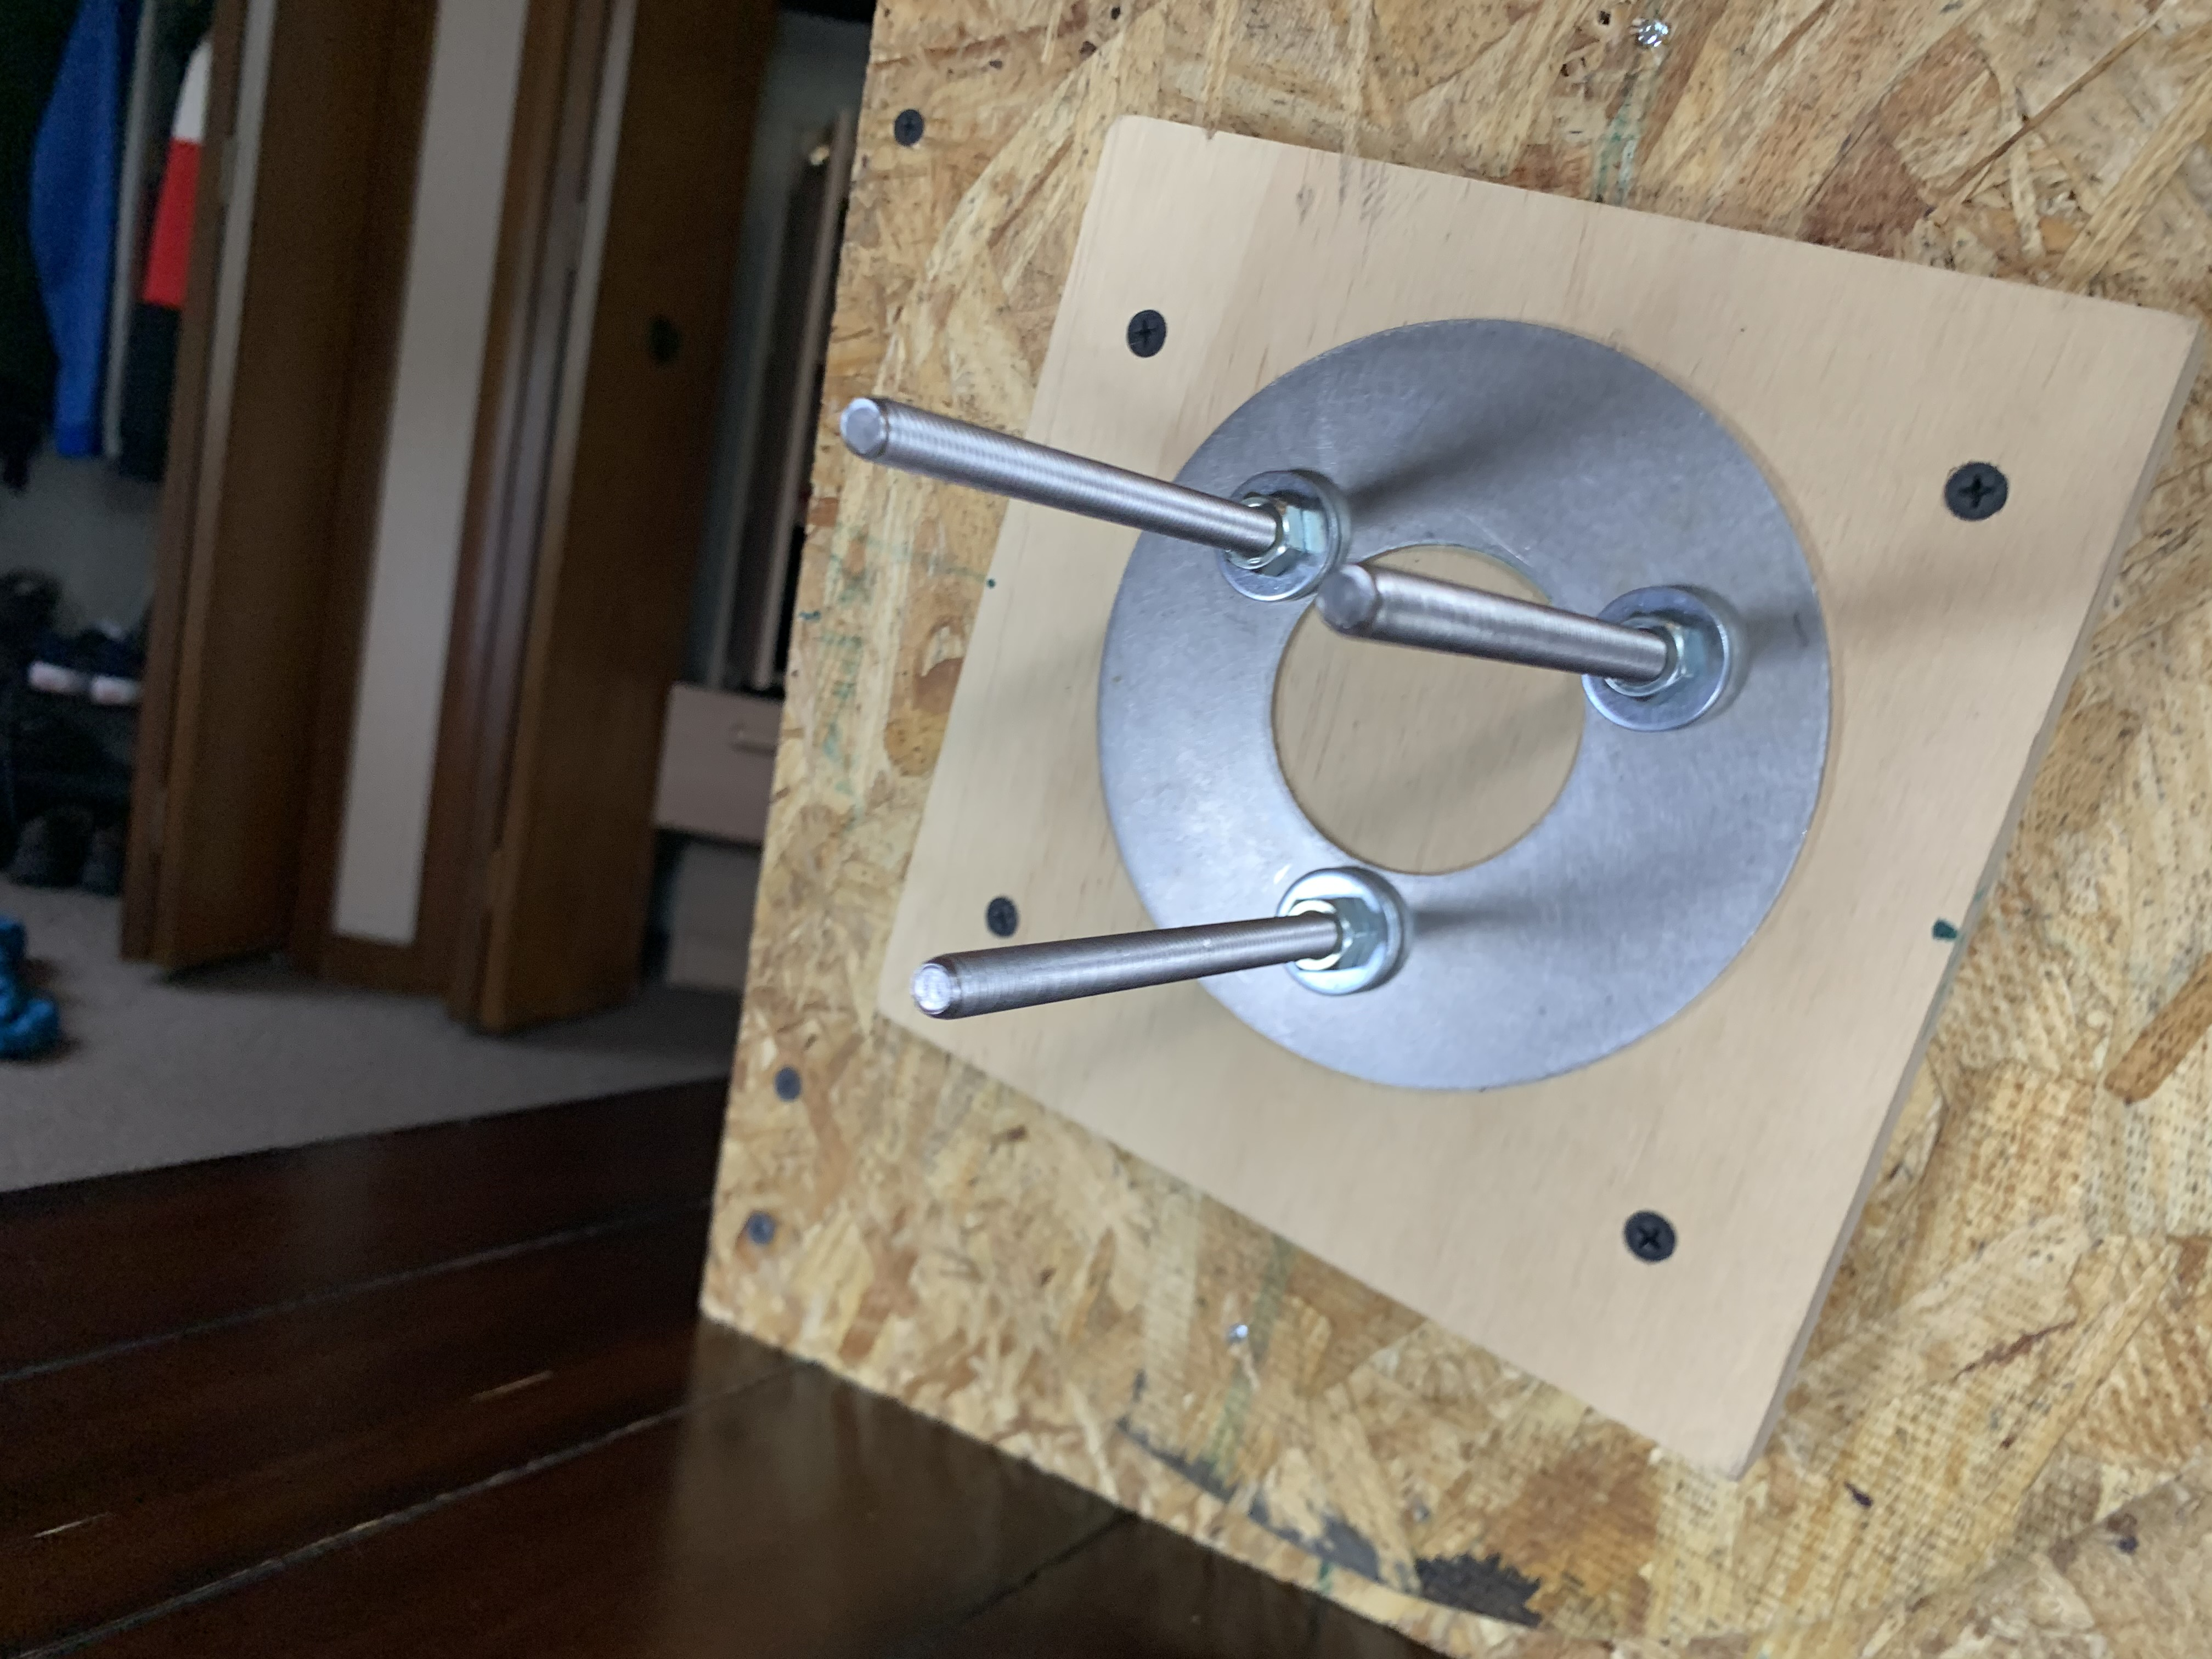bolt: (1581, 586, 1749, 734), (1275, 866, 1411, 1000), (1217, 469, 1348, 603)
